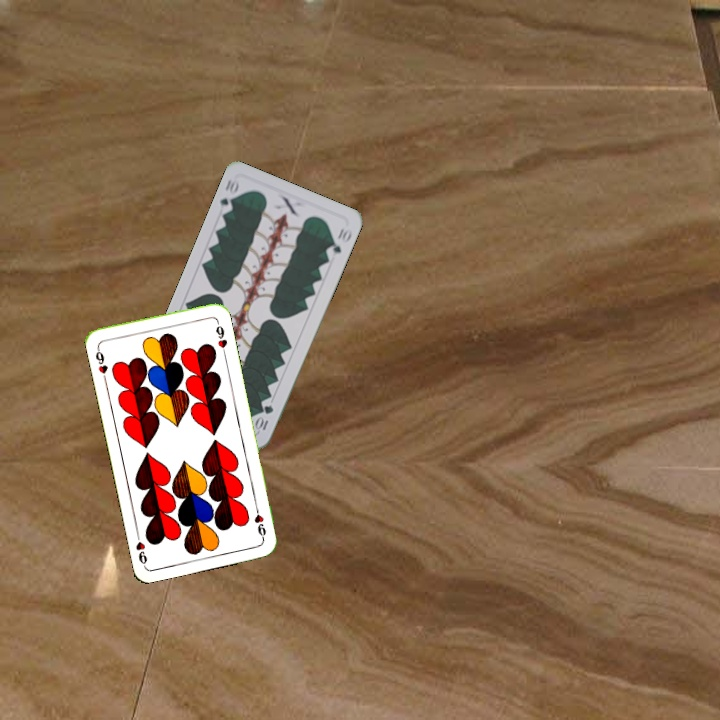G10: (216, 174, 242, 216), (252, 400, 276, 433)
H9: (91, 343, 110, 383), (250, 502, 269, 542)
